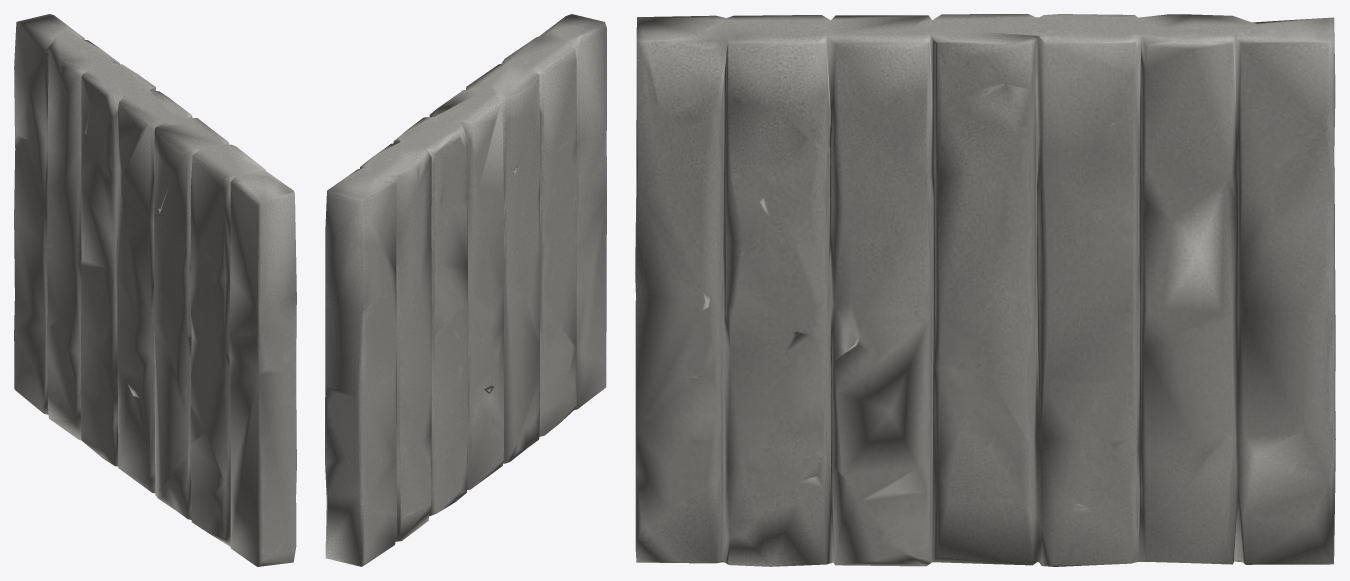
File: pnl_flute_lod1.glb
3 views of the same model, side by side, from view 1: azimuth 30°, elevation 25°; view 2: azimuth 150°, elevation 25°; view 3: azimuth 270°, elevation 25° (orthographic). The views are drawn at different scales.
Visible parts, largest first — view 1: tripo_node_c2f444a6-4292-4854-b261-eb6ce3268616; view 2: tripo_node_c2f444a6-4292-4854-b261-eb6ce3268616; view 3: tripo_node_c2f444a6-4292-4854-b261-eb6ce3268616.
Part boxes in pixels (x1,y1,x2,y2): tripo_node_c2f444a6-4292-4854-b261-eb6ce3268616: [14, 14, 296, 566]; tripo_node_c2f444a6-4292-4854-b261-eb6ce3268616: [325, 14, 606, 566]; tripo_node_c2f444a6-4292-4854-b261-eb6ce3268616: [635, 14, 1335, 566].
Size of the model in its own units: 0.1672 by 1.2 by 1.44.
Materials: 1 (1 with a texture image).
